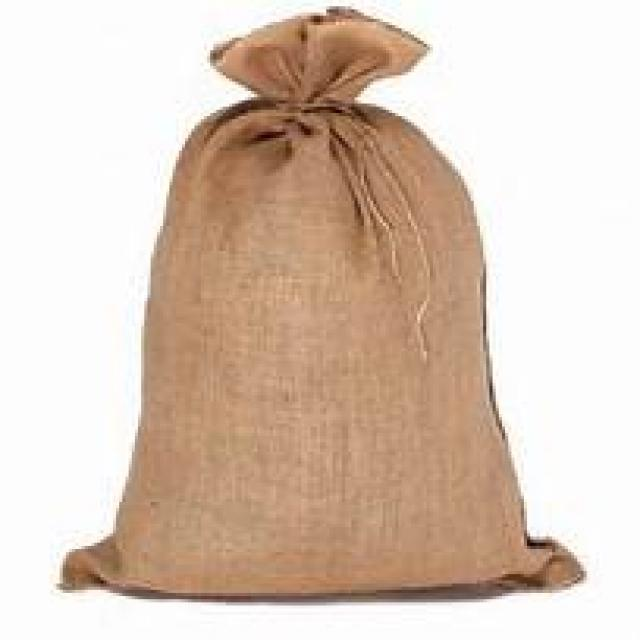gunny_bag: (61, 6, 591, 605)
